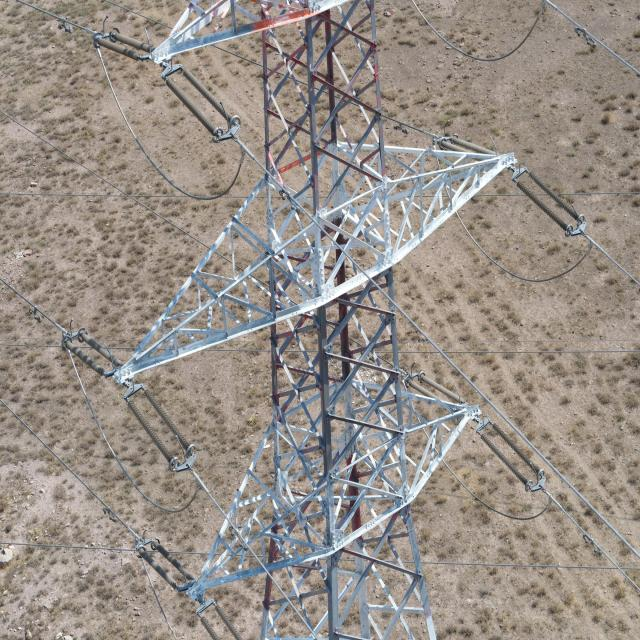direk: (251, 6, 444, 640)
